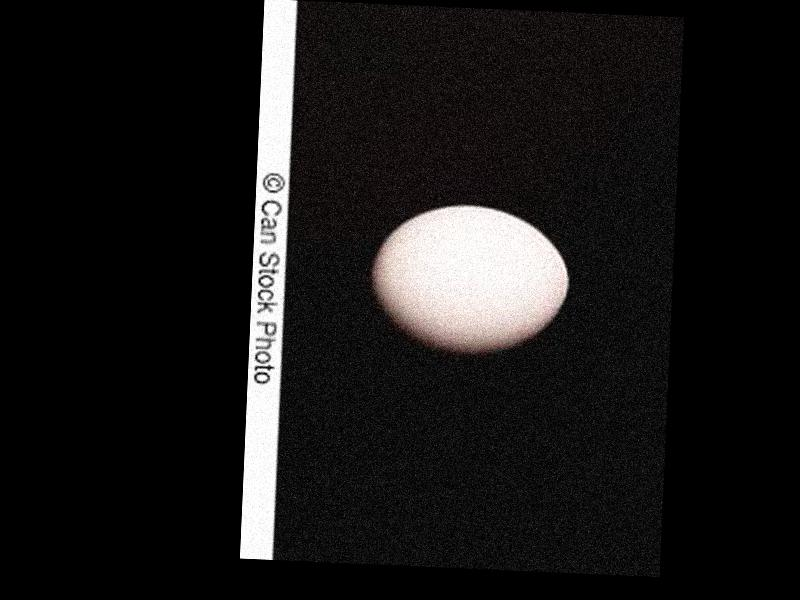Eggs: (365, 201, 571, 356)
